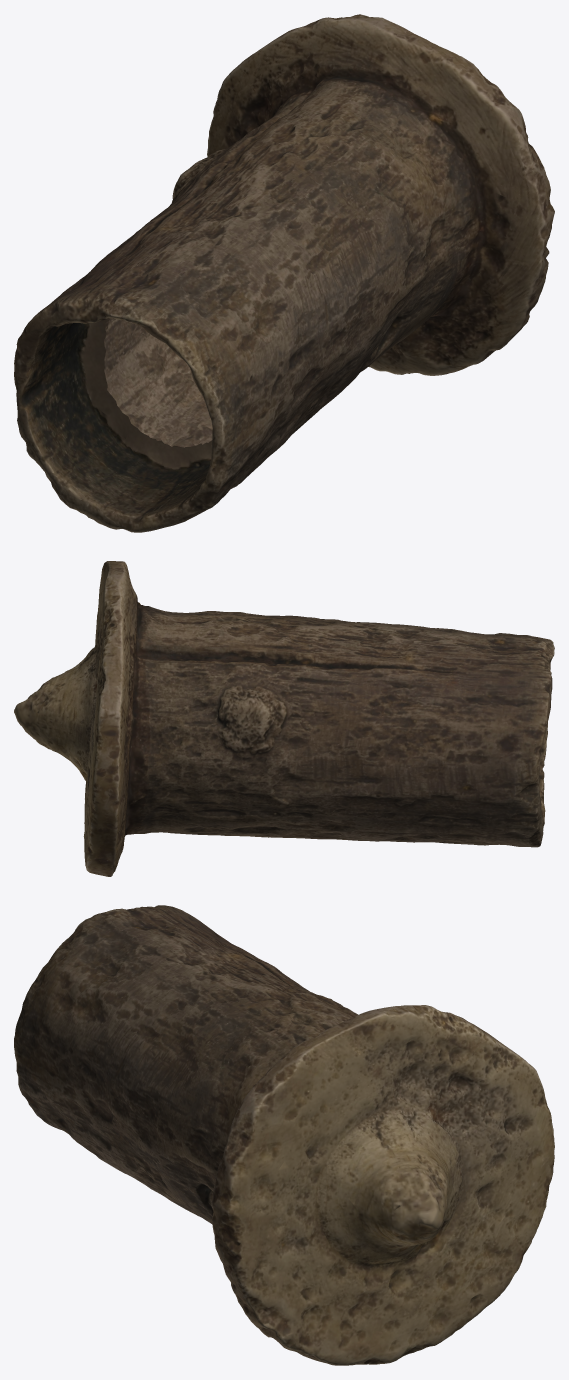
Rendered from tap.obj.
The picture shows the model from 3 angles, top to bottom: view 1: azimuth 30°, elevation 25°; view 2: azimuth 150°, elevation 25°; view 3: azimuth 270°, elevation 25°; orthographic projection. The views are drawn at different scales.
Parts seen in each view (by area): view 1: Model; view 2: Model; view 3: Model.
Part boxes in pixels (x1,y1,x2,y2): Model: (14,14,554,532); Model: (14,561,554,876); Model: (14,905,554,1365).
Size of the model in its own units: 0.0481 by 0.0299 by 0.0426.
